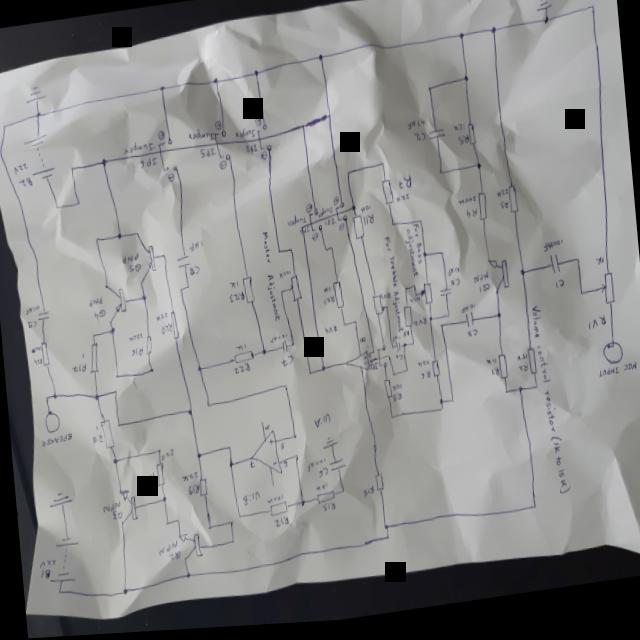capacitor: (547, 258, 559, 281), (328, 460, 344, 476), (426, 133, 444, 145), (176, 257, 190, 271), (34, 309, 50, 321), (278, 342, 288, 358), (464, 316, 473, 332), (438, 292, 452, 301), (394, 346, 400, 357)
ground: (22, 80, 46, 105), (47, 490, 73, 508), (534, 1, 552, 19), (320, 438, 339, 453)
junction: (296, 123, 306, 135), (488, 30, 496, 41), (0, 121, 8, 132), (290, 435, 298, 443), (194, 453, 202, 461), (588, 10, 595, 19), (462, 79, 469, 87), (292, 456, 299, 464), (316, 56, 323, 64), (115, 233, 122, 241), (298, 502, 305, 510), (92, 393, 99, 401), (51, 392, 58, 400), (185, 409, 192, 417), (160, 496, 167, 504), (227, 462, 234, 470), (183, 573, 190, 580), (111, 459, 118, 466), (577, 296, 584, 303), (204, 403, 211, 410), (516, 391, 522, 399), (532, 388, 538, 396), (140, 295, 146, 302), (574, 263, 580, 270), (111, 389, 118, 395), (382, 527, 388, 534), (502, 393, 508, 400), (108, 328, 114, 335), (155, 449, 161, 456), (542, 23, 548, 30), (121, 588, 127, 595), (494, 317, 500, 323), (260, 351, 266, 357), (148, 368, 154, 374), (228, 522, 234, 528), (43, 395, 49, 401), (113, 374, 119, 380), (448, 402, 454, 408), (56, 589, 62, 595), (160, 254, 166, 260), (184, 285, 190, 291), (252, 73, 258, 79), (100, 160, 106, 166), (458, 37, 463, 44), (282, 387, 287, 394), (379, 164, 384, 170), (206, 526, 211, 532), (229, 540, 234, 546), (175, 519, 180, 525), (177, 288, 182, 294), (212, 80, 217, 86), (158, 87, 164, 92), (90, 333, 95, 339), (438, 402, 442, 409), (350, 208, 354, 215), (116, 422, 120, 429), (226, 446, 230, 453), (438, 327, 442, 333), (288, 250, 292, 256), (196, 367, 200, 373), (278, 292, 282, 298), (384, 538, 388, 544), (475, 168, 479, 173), (427, 91, 431, 96), (438, 173, 442, 178), (164, 522, 168, 527), (438, 256, 442, 261), (352, 323, 356, 328), (340, 491, 344, 496), (520, 276, 524, 281), (428, 321, 432, 326), (402, 346, 406, 351), (384, 309, 388, 314), (238, 516, 242, 521), (321, 368, 324, 374), (328, 250, 332, 254), (444, 317, 448, 321), (422, 257, 426, 261), (36, 112, 40, 116), (368, 364, 372, 368), (532, 510, 536, 514), (54, 205, 57, 209), (403, 291, 406, 295), (410, 345, 413, 349), (439, 412, 442, 416), (418, 223, 421, 227), (391, 226, 394, 230), (346, 175, 349, 179), (276, 253, 280, 256), (386, 358, 389, 362), (307, 375, 310, 378), (70, 166, 72, 170), (76, 201, 78, 205), (324, 251, 326, 255), (414, 297, 416, 301), (412, 289, 414, 293), (390, 349, 392, 353), (342, 326, 344, 330), (392, 377, 394, 381), (404, 372, 406, 376), (372, 353, 374, 357), (390, 419, 392, 423), (95, 241, 96, 243)
resistor: (598, 278, 618, 313), (98, 419, 114, 450), (286, 275, 301, 305), (242, 276, 256, 308), (87, 342, 100, 375), (418, 285, 433, 311), (506, 188, 518, 220), (476, 195, 488, 227), (380, 182, 393, 210), (230, 352, 253, 367), (168, 311, 179, 342), (314, 492, 334, 509), (267, 502, 287, 519), (496, 358, 508, 385), (370, 296, 384, 319), (332, 283, 342, 313), (352, 218, 364, 243), (526, 352, 536, 381), (39, 339, 49, 367), (154, 463, 164, 489), (402, 307, 412, 333), (196, 478, 208, 499), (373, 475, 384, 497), (466, 127, 476, 151), (382, 382, 392, 403), (430, 363, 440, 382), (144, 336, 152, 355)
source: (44, 534, 80, 587), (22, 134, 54, 182)
switch: (156, 139, 178, 176), (213, 130, 230, 164), (254, 126, 270, 156), (306, 210, 322, 236), (375, 348, 387, 374), (334, 205, 346, 225)
terminal: (258, 422, 263, 428), (271, 486, 274, 490)
text: (530, 308, 570, 503), (383, 238, 402, 337), (261, 231, 280, 326), (402, 231, 418, 284), (38, 431, 72, 450), (596, 368, 636, 383), (187, 127, 214, 146), (122, 140, 154, 156), (412, 228, 422, 272), (586, 320, 608, 339), (156, 541, 178, 556), (304, 460, 326, 475), (100, 499, 120, 515), (233, 128, 254, 143), (540, 244, 562, 258), (312, 416, 331, 432), (241, 492, 260, 508), (284, 217, 306, 230), (138, 156, 157, 171), (231, 362, 250, 377), (404, 122, 425, 135), (180, 471, 199, 485), (456, 199, 476, 212), (120, 253, 139, 266), (396, 179, 412, 194), (268, 334, 286, 347), (162, 551, 181, 563), (458, 308, 476, 320), (86, 296, 102, 309), (227, 293, 244, 305), (198, 149, 215, 161), (187, 241, 204, 253), (126, 333, 143, 345), (153, 312, 170, 324), (315, 210, 332, 222), (23, 303, 40, 315), (279, 357, 293, 371), (140, 472, 155, 485), (322, 326, 338, 338), (128, 347, 144, 359), (70, 362, 86, 374), (273, 518, 289, 530), (412, 320, 428, 332), (276, 271, 292, 283), (37, 558, 56, 568), (12, 161, 26, 174), (185, 484, 198, 498), (160, 449, 173, 463), (320, 504, 335, 516), (266, 496, 284, 506), (471, 277, 488, 287), (494, 192, 508, 204), (394, 196, 409, 207), (361, 489, 374, 501), (18, 175, 31, 187), (322, 219, 335, 231), (92, 308, 105, 320), (91, 432, 102, 446), (186, 266, 198, 278), (316, 470, 329, 481), (160, 325, 171, 338), (39, 567, 50, 580), (446, 271, 460, 281), (516, 368, 528, 379), (552, 284, 564, 295), (464, 212, 476, 223), (362, 217, 373, 229), (111, 509, 122, 521), (128, 264, 140, 275), (594, 261, 604, 274), (412, 136, 425, 146), (483, 362, 496, 372), (29, 344, 42, 354), (322, 299, 335, 309), (451, 128, 465, 137), (416, 363, 430, 372), (252, 117, 261, 131), (359, 207, 370, 218), (244, 146, 256, 156), (476, 288, 488, 298), (498, 204, 508, 216), (233, 345, 246, 354), (420, 373, 430, 384), (227, 281, 238, 291), (489, 371, 498, 383), (167, 173, 176, 185), (378, 296, 391, 304), (466, 333, 476, 343), (457, 140, 468, 149), (515, 358, 526, 367), (448, 283, 459, 292), (217, 161, 226, 172), (259, 153, 268, 164), (213, 121, 221, 133), (408, 300, 420, 308), (368, 365, 378, 374), (26, 319, 36, 328), (322, 288, 331, 298), (31, 357, 42, 365), (156, 131, 164, 142), (392, 396, 401, 405), (310, 235, 318, 245), (401, 333, 408, 343), (390, 388, 400, 395), (298, 230, 308, 237), (248, 462, 255, 472), (394, 357, 402, 365), (336, 226, 344, 234), (358, 340, 365, 348), (391, 338, 399, 345), (304, 207, 311, 215), (331, 200, 338, 208), (278, 445, 284, 453), (268, 441, 274, 449), (264, 425, 270, 432), (282, 463, 287, 471), (362, 364, 367, 370), (361, 358, 366, 364), (271, 463, 276, 469), (366, 357, 371, 362)
transistor: (134, 230, 158, 288), (103, 283, 128, 326), (487, 262, 510, 302), (116, 488, 138, 527), (176, 532, 202, 563)
